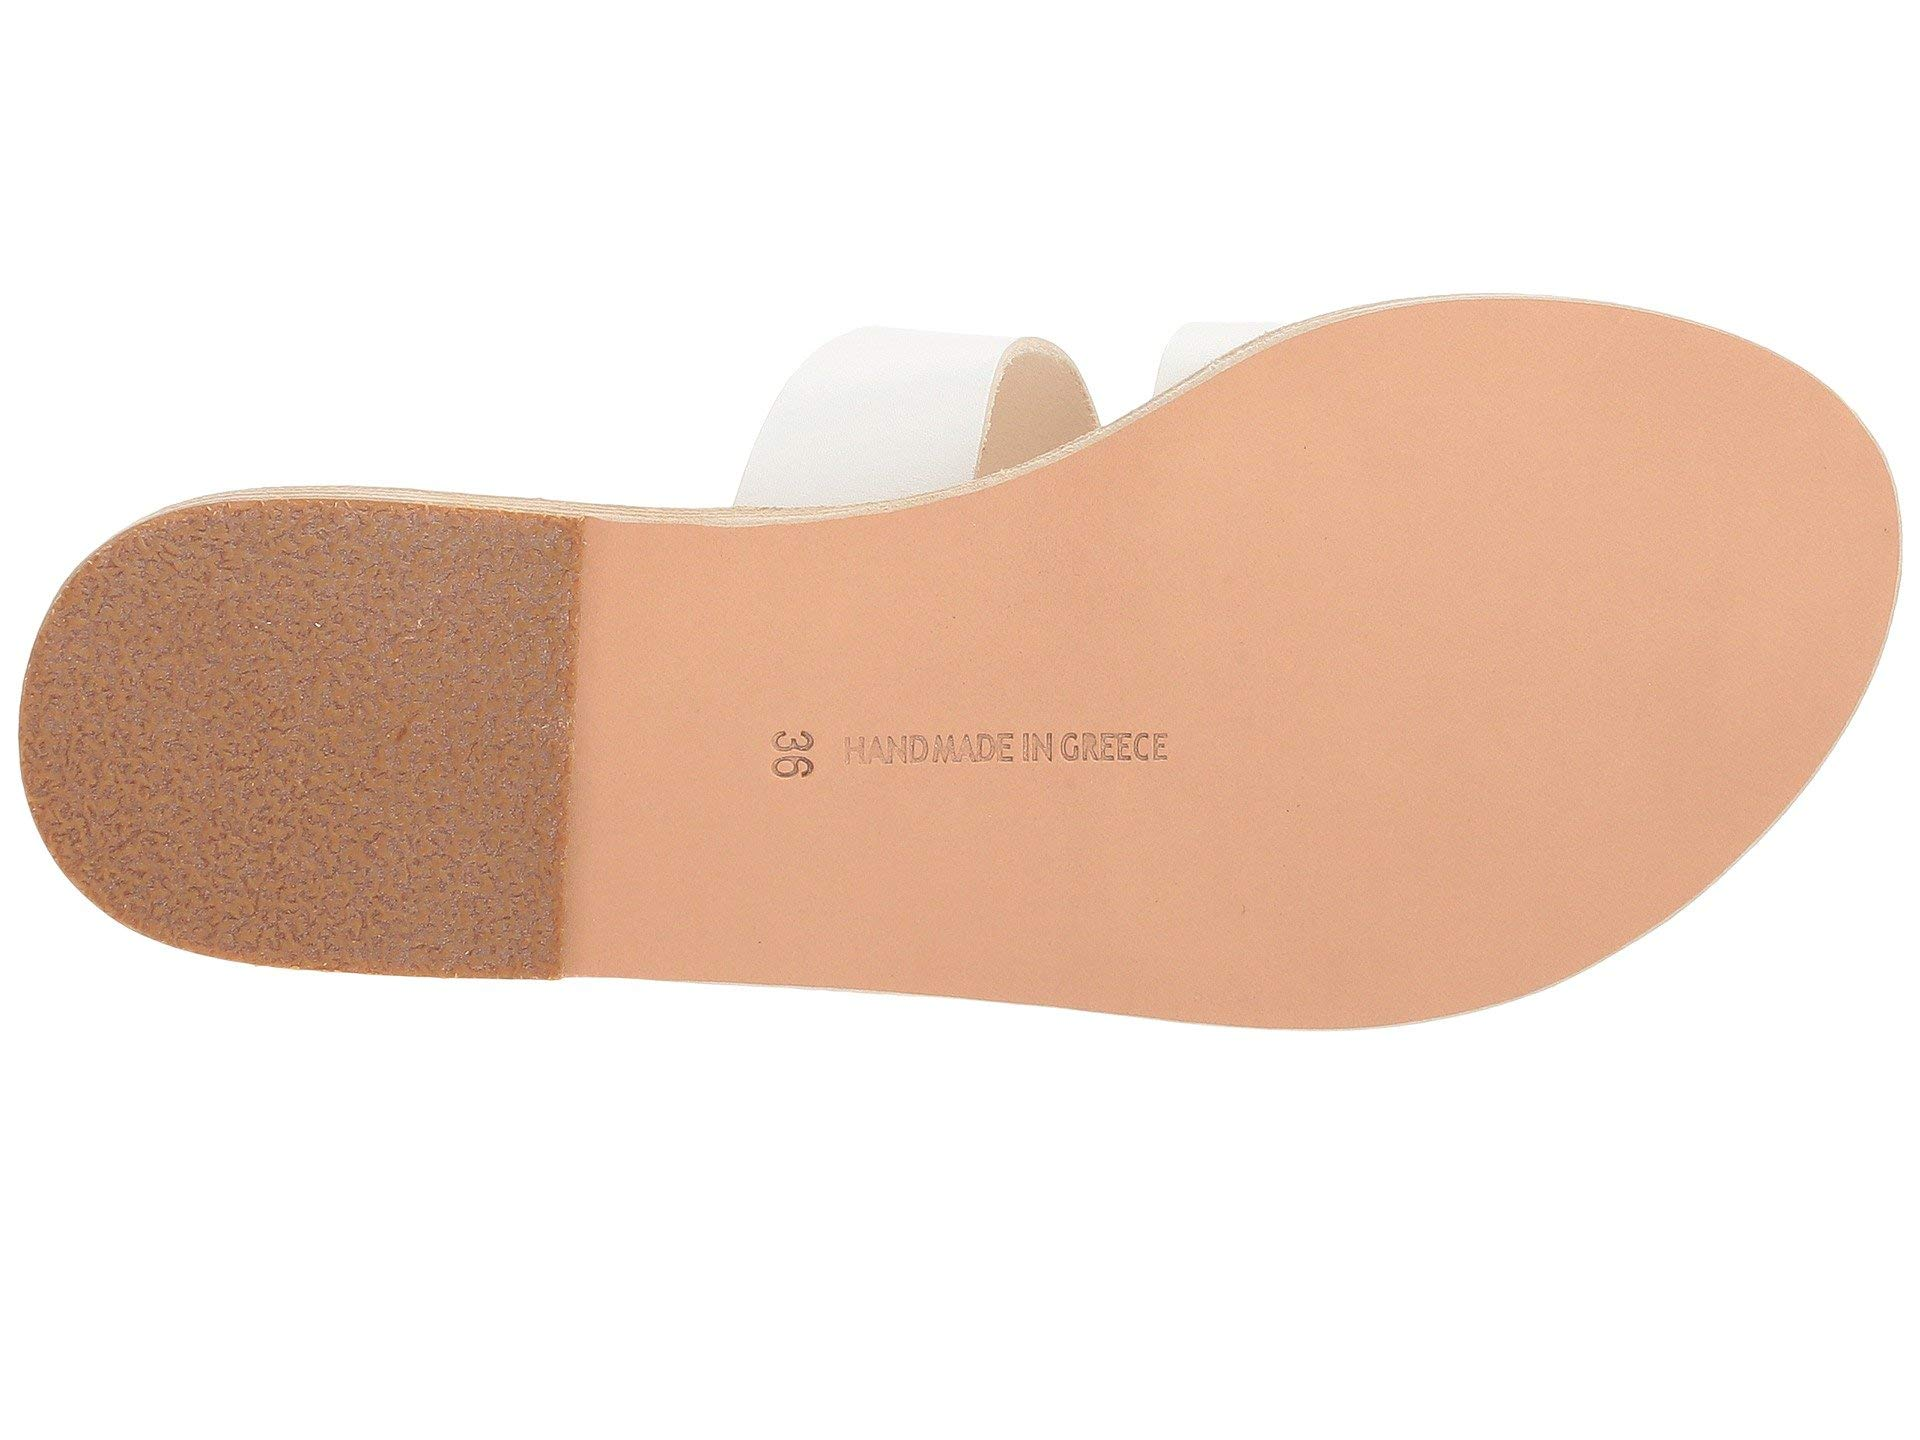text: (854, 693, 1185, 914), (745, 712, 836, 818)
